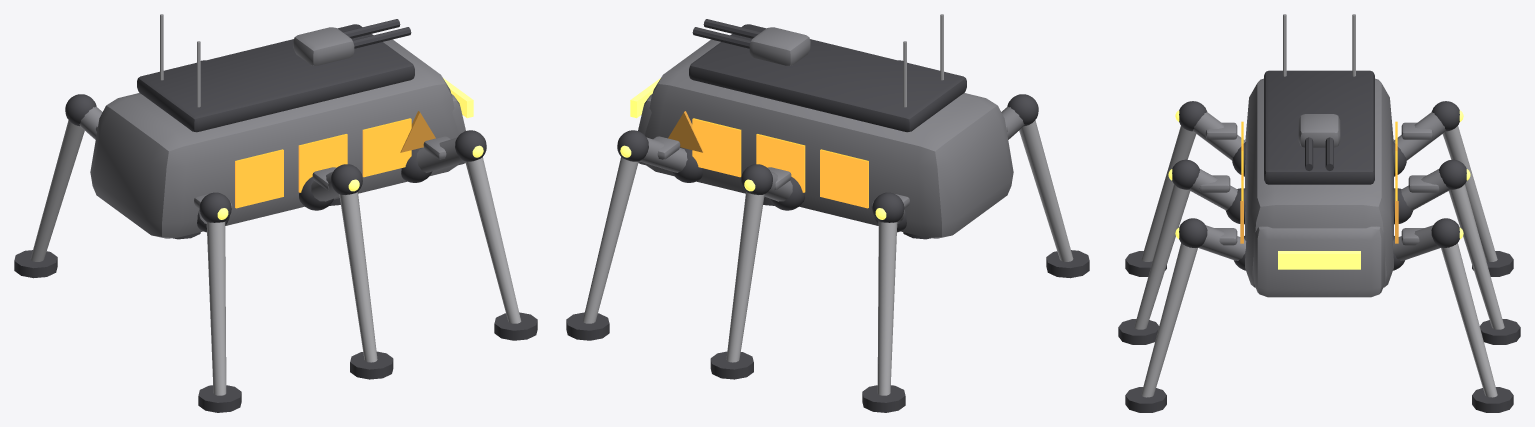
Rendered from rob_scout.glb.
The picture shows the model from 3 angles, left to right: view 1: azimuth 30°, elevation 25°; view 2: azimuth 150°, elevation 25°; view 3: azimuth 270°, elevation 25°; orthographic projection. The views are drawn at different scales.
Parts seen in each view (by area): view 1: rob_scout, limb_r0_m, limb_r1_m, limb_r2_m, limb_l2_m, turret_m; view 2: rob_scout, limb_l0_m, limb_l1_m, limb_l2_m, limb_r2_m, turret_m; view 3: rob_scout, limb_l1_m, limb_r1_m, limb_l0_m, limb_r0_m, limb_l2_m, limb_r2_m, turret_m.
Part boxes in pixels (<box>): rob_scout: <box>90,14,473,238</box>; limb_r0_m: <box>401,130,537,340</box>; limb_r1_m: <box>299,164,393,379</box>; limb_r2_m: <box>194,192,241,412</box>; limb_l2_m: <box>14,94,102,278</box>; turret_m: <box>293,19,411,65</box>; rob_scout: <box>630,14,1013,238</box>; limb_l0_m: <box>566,130,702,340</box>; limb_l1_m: <box>710,164,804,379</box>; limb_l2_m: <box>862,192,909,412</box>; limb_r2_m: <box>1001,94,1089,278</box>; turret_m: <box>692,19,810,65</box>; rob_scout: <box>1240,14,1398,297</box>; limb_l1_m: <box>1392,159,1520,344</box>; limb_r1_m: <box>1118,159,1246,344</box>; limb_l0_m: <box>1392,218,1513,412</box>; limb_r0_m: <box>1125,218,1246,412</box>; limb_l2_m: <box>1392,101,1513,276</box>; limb_r2_m: <box>1125,101,1246,276</box>; turret_m: <box>1298,114,1340,170</box>.
Size of the model in its own units: 1.07 by 0.885 by 1.16.
